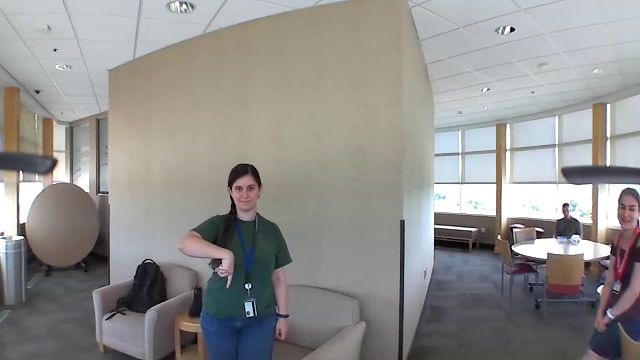down: (211, 245, 239, 292)
